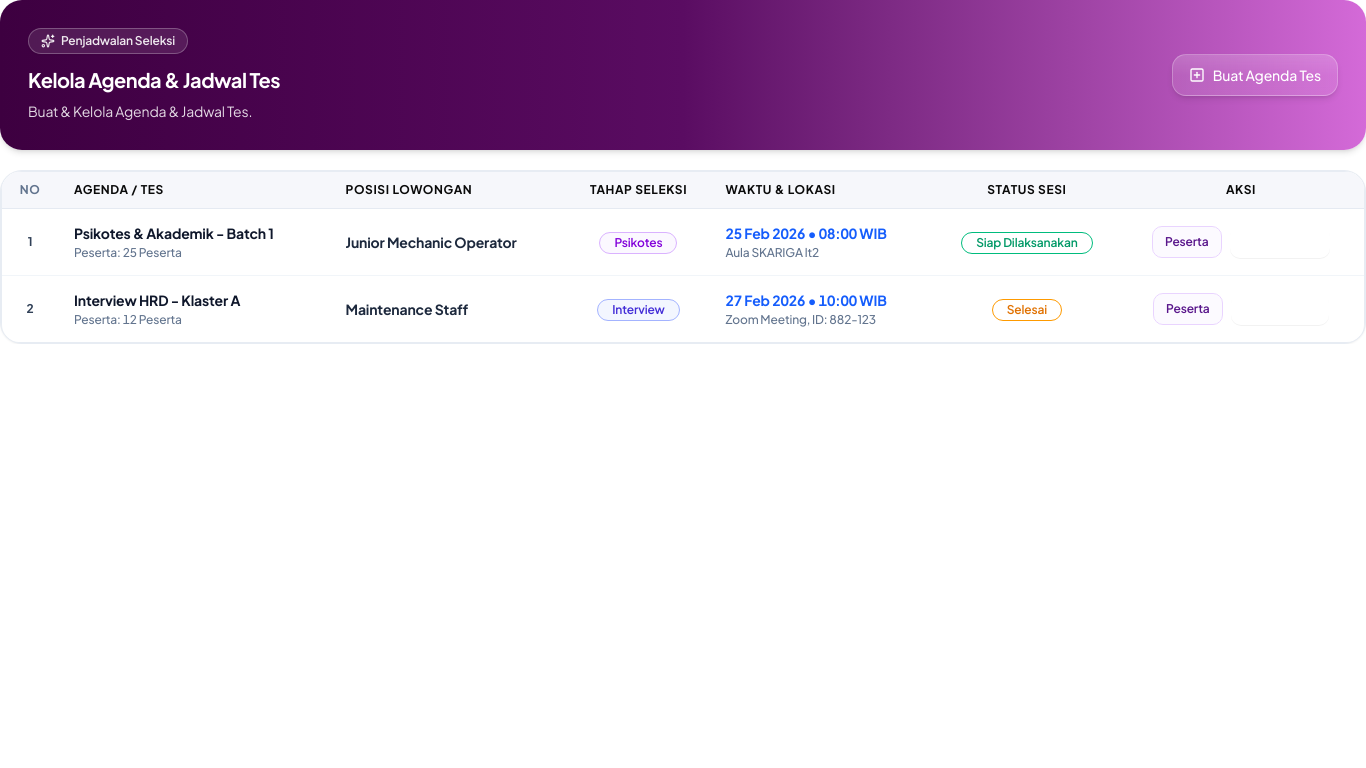
Test case: JadwalPage Integration › opens create agenda modal when header button is clicked
The width and height of the screenshot is (1366, 768).
What coordinates should you click on to do the following:
click the button "Buat Agenda Tes"
I would click on:
 (1255, 75)
Its box is [1172, 54, 1338, 96].
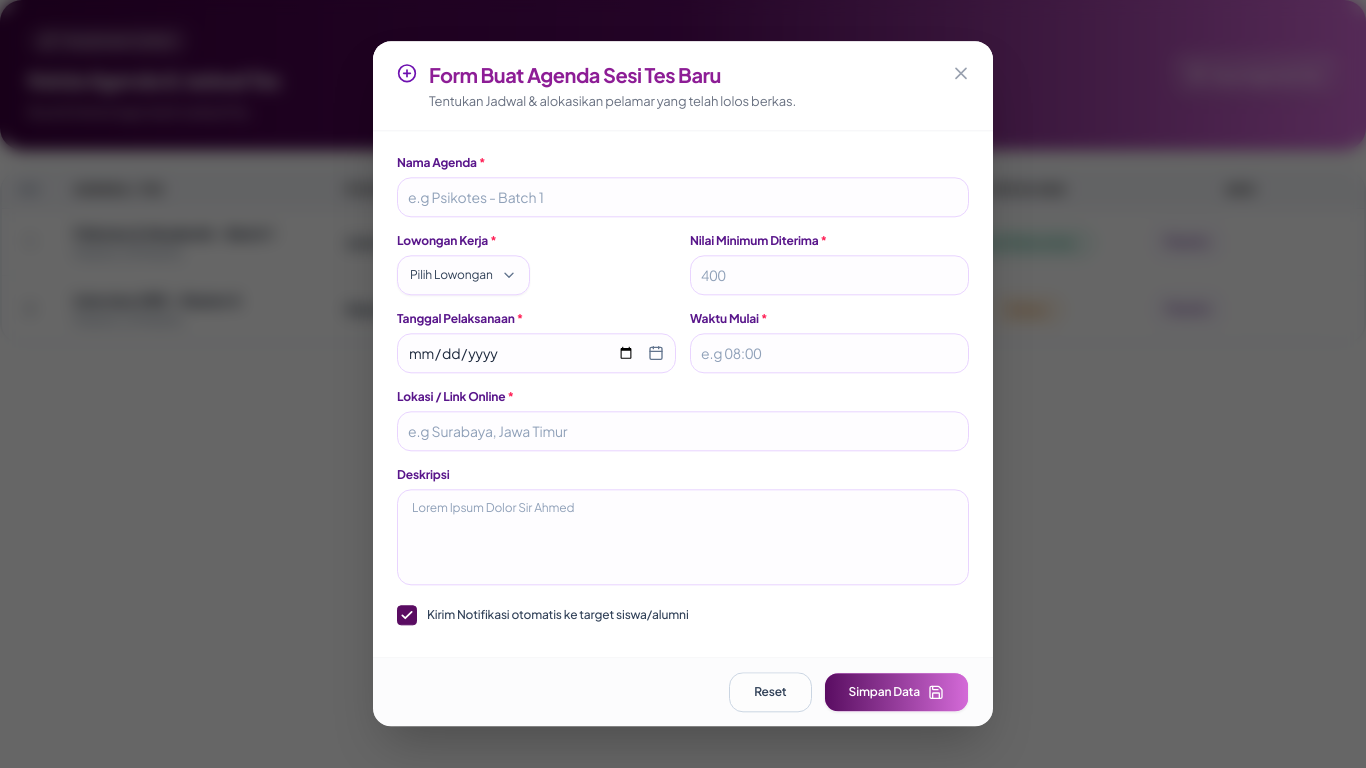
Check: the dialog "Form Buat Agenda Sesi Tes Baru" is shown, box [373, 41, 993, 727]
Check: the text "Tentukan Jadwal & alokasikan pelamar yang telah lolos berkas." is shown, box [429, 93, 796, 111]
Check: the field with placeholder "e.g Psikotes - Batch 1" is shown, box [397, 178, 969, 218]
